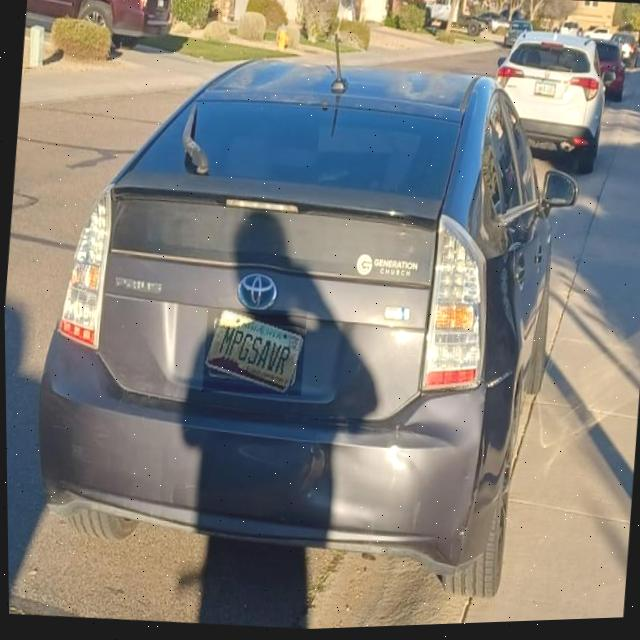LicensePlate: (202, 310, 304, 397)
